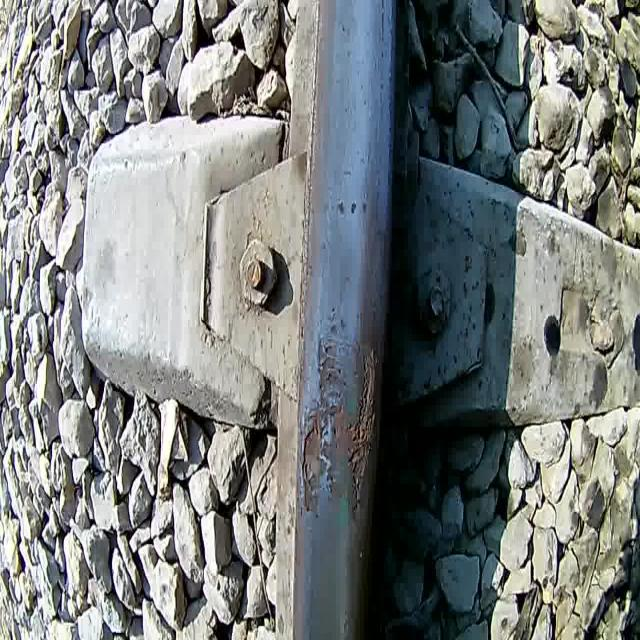Spallings: (294, 308, 381, 522)
